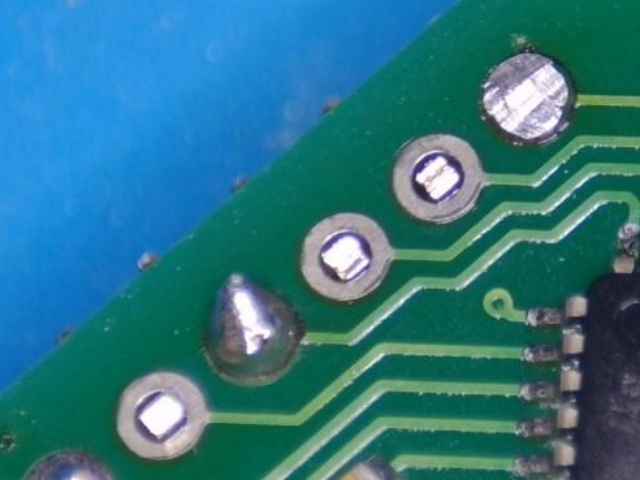pcb_defect: (207, 275, 304, 378), (23, 451, 113, 480)
